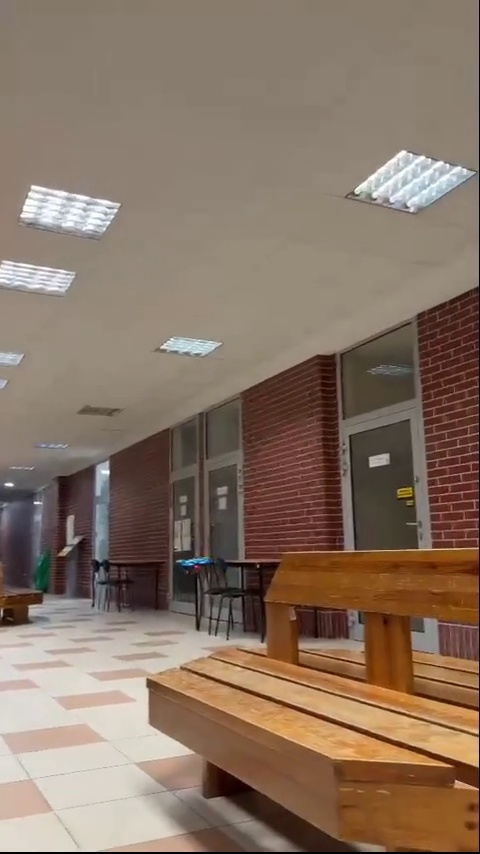drone: (177, 558, 214, 573)
